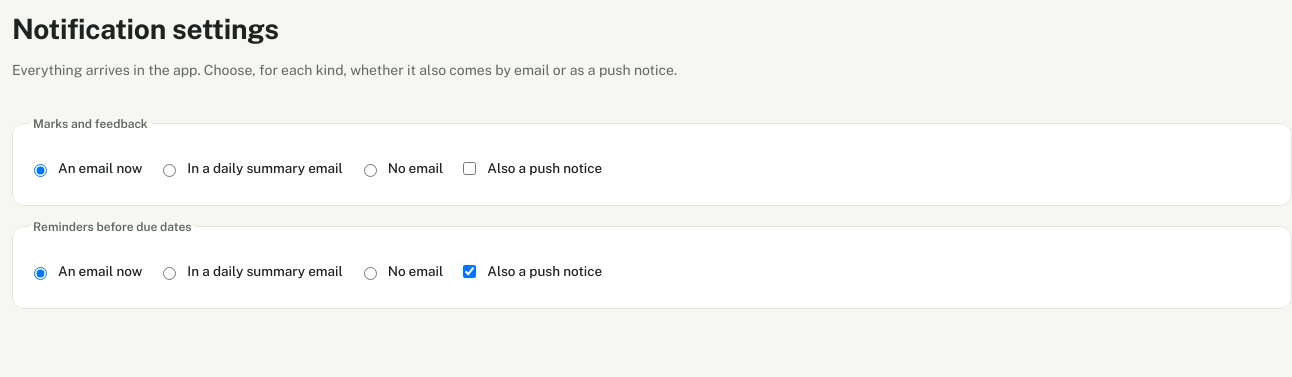
it: notification settings (item 2.33) › shows each kind with its email choice and saves a change
The width and height of the screenshot is (1292, 377).
Expected: the radio button labelled "An email now" below "Reminders before due dates" is checked, [34, 267, 47, 280]
Click the radio button labelled "In a daily summary email" below "Reminders before due dates".
click(170, 273)  # box [163, 267, 176, 280]
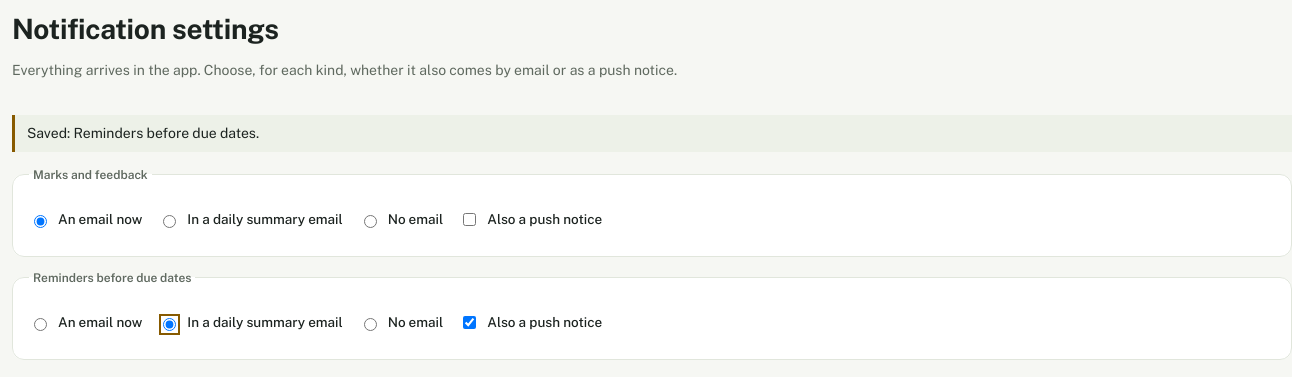
Result: the 2nd radio button labelled "In a daily summary email" is checked at [163, 318, 176, 331]
Result: the message reads "Saved: Reminders before due dates." at [27, 125, 259, 141]
